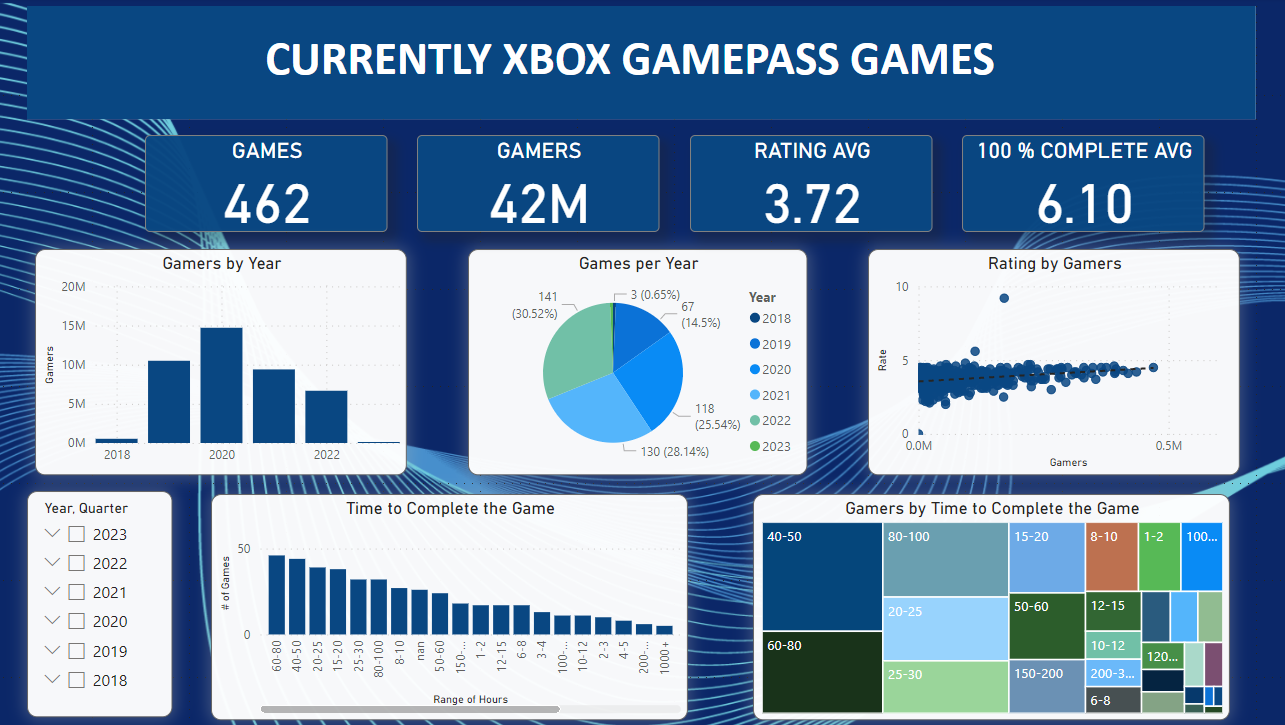

The dashboard page shown, as its layout file describes it:
{"tool":"powerbi","page":{"name":"Page 1","canvas":[1280,720],"ordinal":0},"visuals":[{"type":"slicer","fields":{"Values":["Gamepass_games1__3.Added.Variation.Date Hierarchy.Year","Gamepass_games1__3.Added.Variation.Date Hierarchy.Quarter"]},"box":[0,488,144,208],"z":0},{"type":"pieChart","title":"Games per Year","fields":{"Category":["Gamepass_games1__3.Added.Variation.Date Hierarchy.Year"],"Y":["CountNonNull(Gamepass_games1__3.Game)"]},"box":[468,248,336,224],"z":1000},{"type":"shape","box":[32,8,1216,112],"z":2000},{"type":"textbox","title":"CURRENTLY XBOX GAMEPASS GAMES ","box":[56,32,1144,56],"z":3000},{"type":"card","title":"GAMES","fields":{"Values":["CountNonNull(Gamepass_games1__3.Game)"]},"box":[148.7,136,240,96],"z":4000},{"type":"card","title":"GAMERS","fields":{"Values":["Sum(Gamepass_games1__3.Gamers)"]},"box":[418,136,240,96],"z":5000},{"type":"card","title":"RATING AVG","fields":{"Values":["Avg(Gamepass_games1__3.Rating)"]},"box":[687.4,136,240,96],"z":6000},{"type":"card","title":"100 % COMPLETE AVG","fields":{"Values":["Avg(Gamepass_games1__3.Comp %)"]},"box":[956.7,136,240,96],"z":7000},{"type":"clusteredColumnChart","title":"Time to Complete the Game","fields":{"Category":["Gamepass_games1__3.Comp Time (hrs)"],"Y":["CountNonNull(Gamepass_games1__3.Game)"]},"box":[216,496,472,224],"z":8000},{"type":"scatterChart","title":"Rating by Gamers","fields":{"X":["Sum(Gamepass_games1__3.Gamers)"],"Y":["Sum(Gamepass_games1__3.Rating)"],"Category":["Gamepass_games1__3.Game"]},"box":[864,248,368,224],"z":9000},{"type":"clusteredColumnChart","title":"Gamers by Year","fields":{"Category":["Gamepass_games1__3.Added.Variation.Date Hierarchy.Year"],"Y":["Sum(Gamepass_games1__3.Gamers)"]},"box":[40,248,368,224],"z":10000},{"type":"treemap","title":"Gamers by Time to Complete the Game","fields":{"Values":["Sum(Gamepass_games1__3.Gamers)"],"Details":["Gamepass_games1__3.Comp Time (hrs)"]},"box":[752,496,472,224],"z":11000}]}

Visuals, with their boxes in screenshot pixels (x1, y1, x2, y2), scaled from the page's 1280x720 canvas onto the 1285x725 screenshot:
slicer - Gamepass_games1__3.Added.Variation.Date Hierarchy.Year x Gamepass_games1__3.Added.Variation.Date Hierarchy.Quarter: BBox(0, 491, 145, 701)
"Games per Year" pieChart: BBox(470, 250, 807, 475)
shape: BBox(32, 8, 1253, 121)
"CURRENTLY XBOX GAMEPASS GAMES " textbox: BBox(56, 32, 1205, 89)
"GAMES" card: BBox(149, 137, 390, 234)
"GAMERS" card: BBox(420, 137, 661, 234)
"RATING AVG" card: BBox(690, 137, 931, 234)
"100 % COMPLETE AVG" card: BBox(960, 137, 1201, 234)
"Time to Complete the Game" clusteredColumnChart: BBox(217, 499, 691, 724)
"Rating by Gamers" scatterChart: BBox(867, 250, 1237, 475)
"Gamers by Year" clusteredColumnChart: BBox(40, 250, 410, 475)
"Gamers by Time to Complete the Game" treemap: BBox(755, 499, 1229, 724)
